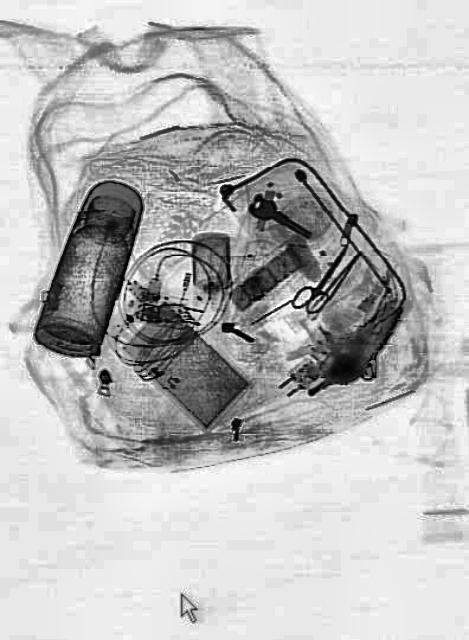Scissors: (290, 236, 356, 324)
